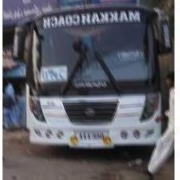bus: (14, 7, 172, 150)
